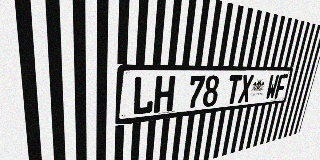7: (186, 75, 206, 109)
8: (202, 75, 221, 107)
F: (274, 74, 288, 99)
H: (153, 76, 176, 113)
L: (131, 76, 155, 116)
T: (225, 75, 242, 105)
W: (265, 74, 279, 100)
X: (238, 75, 254, 103)
